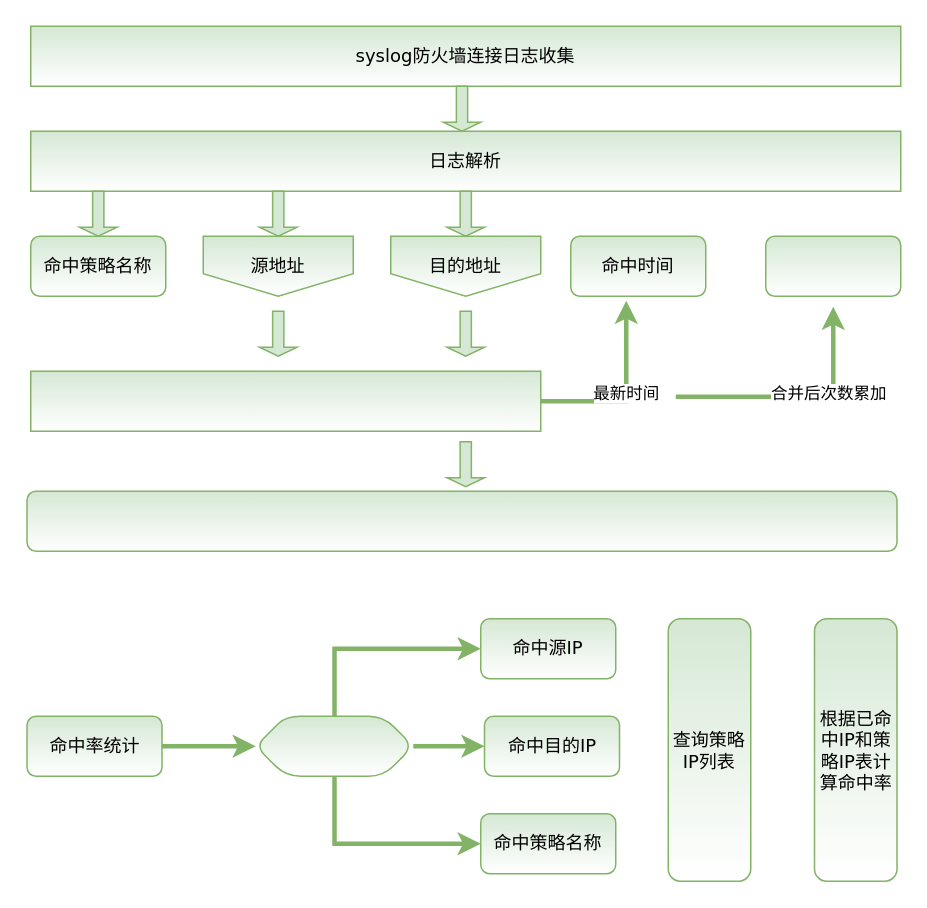
Image size: 927x908. Some labels were removed from this diagram. Here are the shapes that lost their labels. From the top down, the box of each, then its label:
(764, 235, 901, 296): 命中次数
(29, 370, 541, 431): 合并
(26, 490, 897, 551): ES
(254, 715, 413, 776): 查询ES
